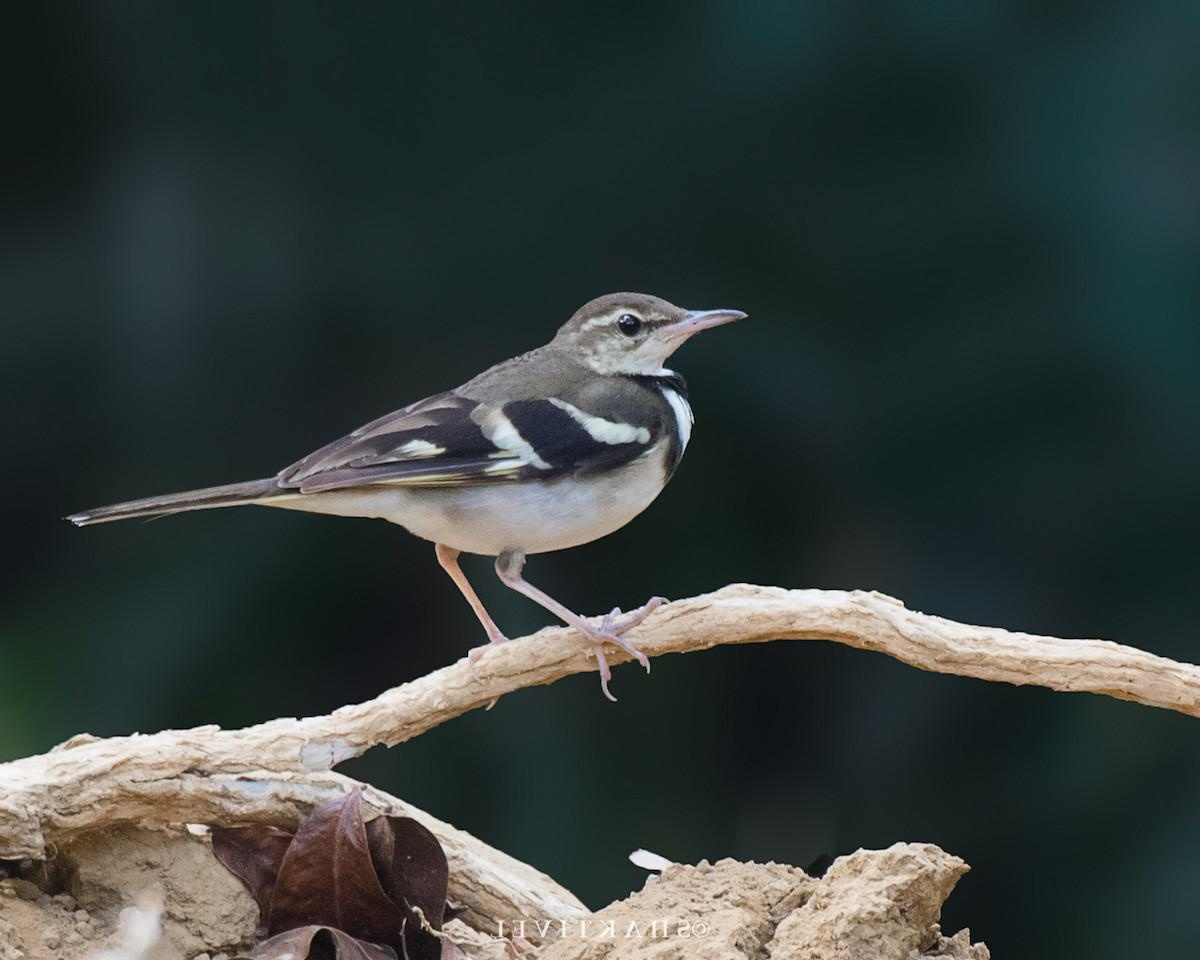wagtail: (196, 272, 785, 619)
